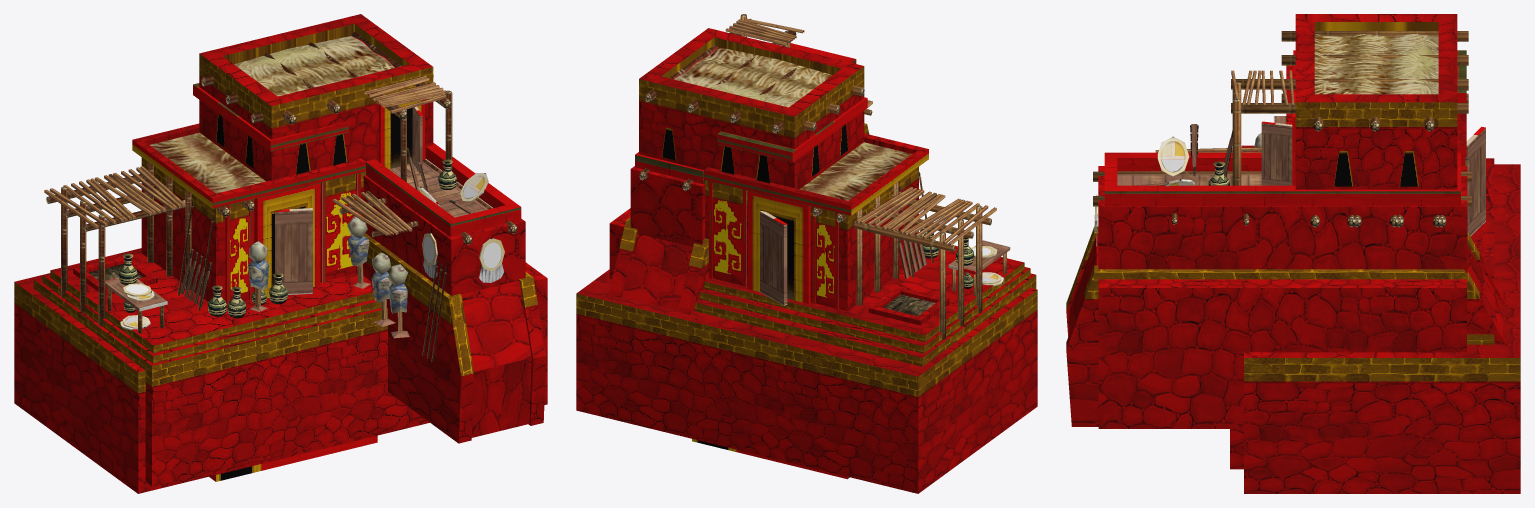
Rendered from zapo_blacksmith.dae.
3 views of the same model, side by side, from view 1: azimuth 30°, elevation 25°; view 2: azimuth 150°, elevation 25°; view 3: azimuth 270°, elevation 25° (orthographic). The views are drawn at different scales.
Parts seen in each view (by area): view 1: Blacksmith; view 2: Blacksmith; view 3: Blacksmith.
Part boxes in pixels (x1,y1,x2,y2): Blacksmith: [14, 14, 547, 493]; Blacksmith: [576, 14, 1037, 493]; Blacksmith: [1066, 14, 1520, 493].
Size of the model in its own units: 21.51 by 21.22 by 20.83.
